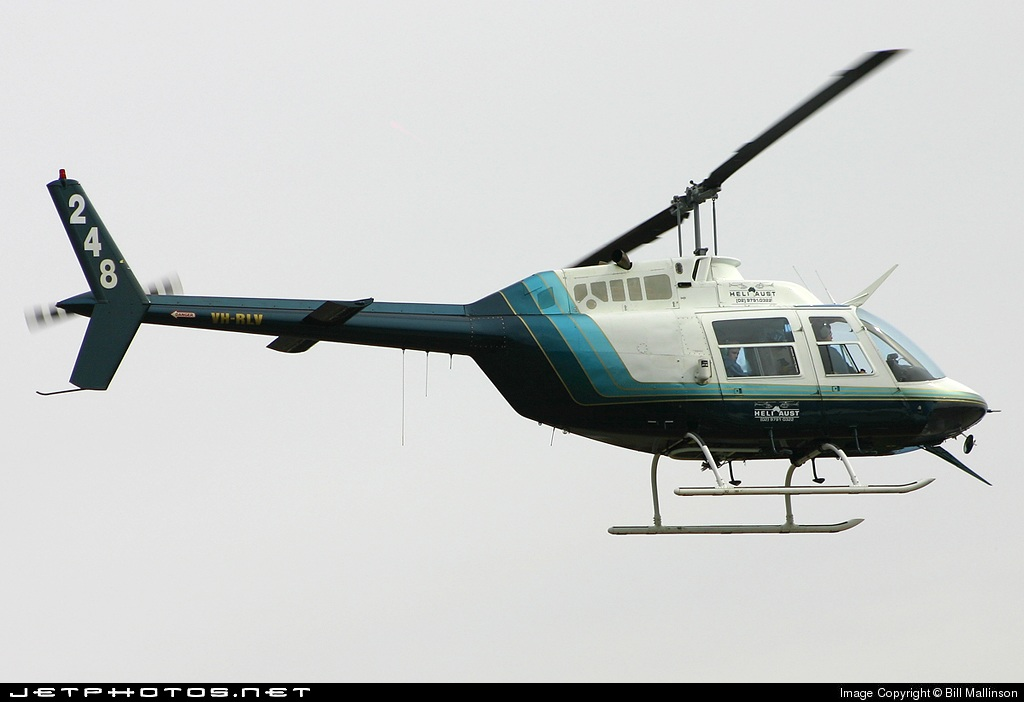number: (61, 189, 126, 290), (207, 309, 265, 328)
